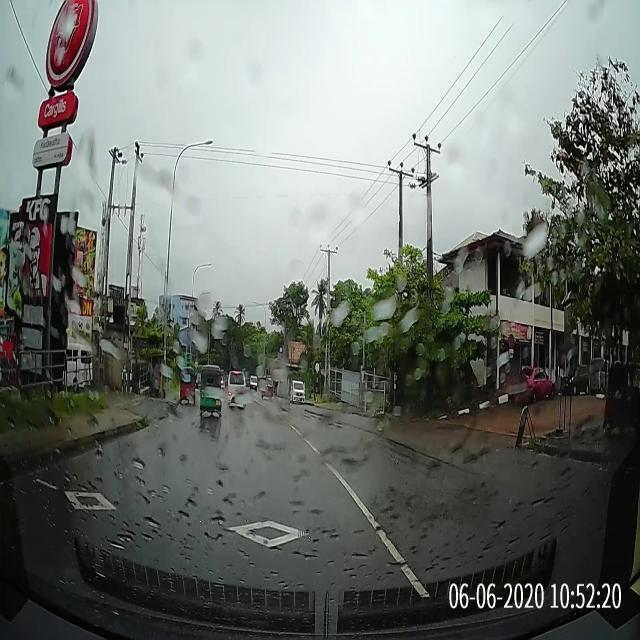diamond: (162, 512, 400, 553)
